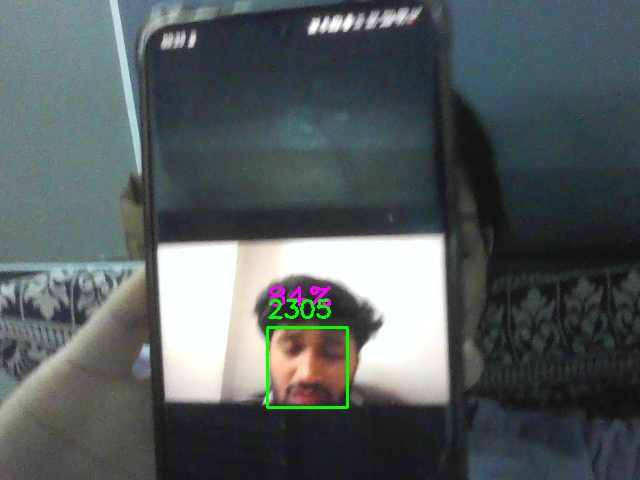fake: (267, 327, 348, 408)
